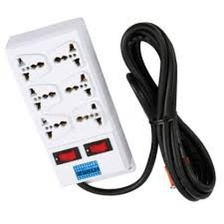three_eye_plug: (2, 12, 138, 191)
